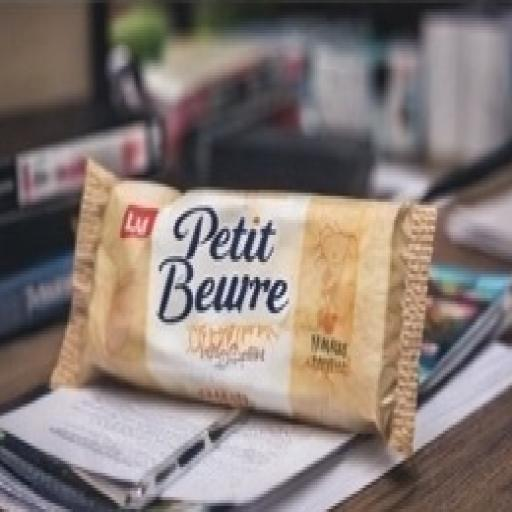petit_beurre: (36, 110, 462, 476)
